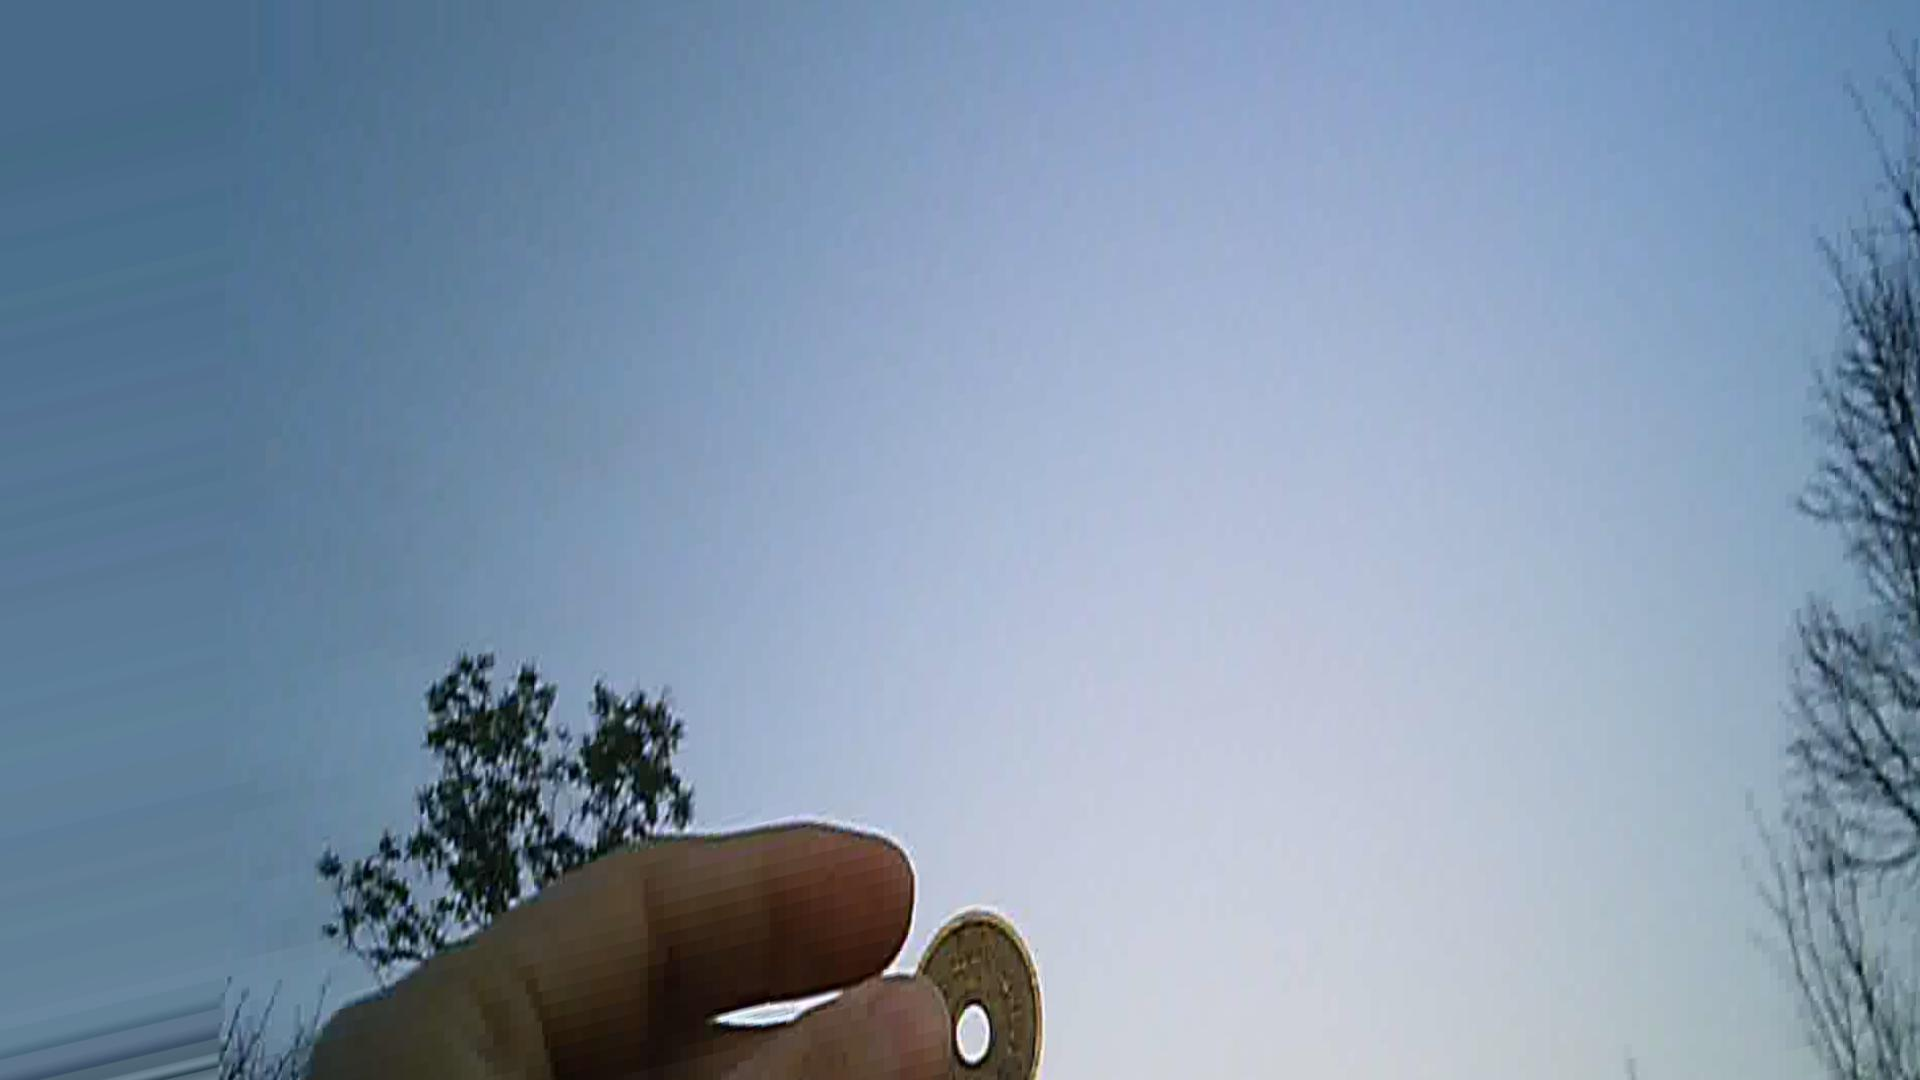5 Yen: (894, 895, 1059, 1062)
